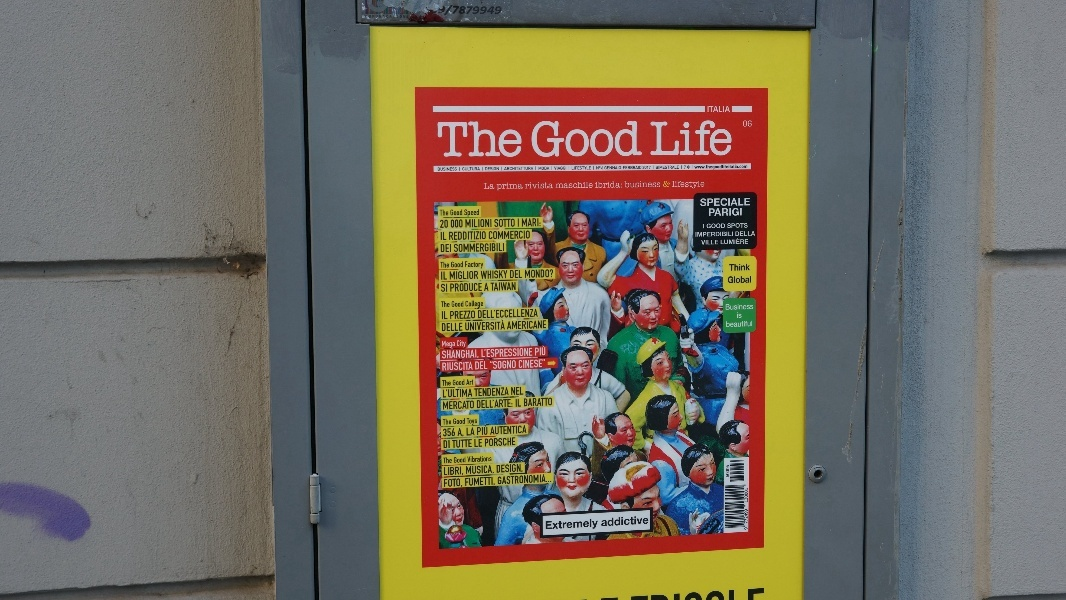text: (545, 121, 560, 158), (561, 121, 576, 158), (577, 121, 592, 158), (593, 121, 608, 158), (609, 121, 624, 158), (625, 121, 640, 158), (657, 120, 672, 156), (673, 120, 688, 156), (689, 120, 704, 156), (705, 120, 720, 156), (449, 122, 464, 157), (465, 122, 480, 157), (481, 122, 496, 157), (497, 122, 512, 157), (532, 121, 544, 158), (721, 120, 733, 156), (438, 122, 448, 157), (513, 122, 522, 157), (651, 120, 656, 156), (465, 319, 480, 331), (481, 319, 496, 331), (561, 519, 576, 530), (577, 519, 592, 530), (609, 516, 624, 527), (625, 516, 640, 527), (465, 476, 480, 487), (513, 474, 528, 485), (529, 474, 544, 485), (481, 308, 496, 319), (497, 308, 512, 319), (513, 308, 528, 319), (497, 425, 512, 436), (513, 425, 528, 436), (449, 388, 464, 399), (497, 399, 513, 409), (546, 519, 560, 530), (481, 476, 495, 487), (498, 474, 512, 485), (497, 464, 512, 474), (449, 231, 464, 241), (465, 231, 480, 241), (497, 230, 512, 240), (513, 230, 528, 240), (465, 243, 480, 253), (481, 243, 496, 253), (481, 270, 496, 280), (497, 282, 512, 292), (513, 320, 528, 330), (529, 320, 544, 330), (449, 350, 464, 360), (497, 348, 512, 358), (513, 348, 528, 358), (497, 360, 512, 370), (481, 399, 496, 409), (481, 387, 496, 397), (466, 465, 480, 475), (481, 465, 495, 475), (465, 350, 479, 360), (482, 348, 496, 358), (705, 198, 720, 207), (721, 198, 736, 207), (721, 208, 736, 217), (449, 467, 464, 476), (497, 219, 512, 228), (465, 271, 480, 280), (529, 270, 544, 279), (465, 283, 480, 292), (449, 323, 464, 332), (449, 362, 464, 371), (497, 438, 512, 447), (449, 401, 464, 410), (529, 398, 544, 407), (726, 465, 736, 478), (529, 218, 542, 228), (497, 387, 510, 397), (689, 181, 705, 189), (737, 320, 753, 328), (449, 479, 463, 488), (466, 219, 480, 228), (450, 271, 464, 280), (450, 283, 464, 292), (450, 311, 464, 320), (497, 183, 512, 191), (673, 181, 688, 189), (737, 276, 752, 284), (744, 488, 752, 503), (465, 262, 480, 270), (529, 360, 544, 368), (465, 7, 480, 15), (481, 7, 496, 15), (737, 198, 750, 207), (467, 427, 480, 436), (466, 301, 480, 309), (497, 270, 508, 280), (529, 308, 539, 319), (497, 319, 506, 331), (452, 440, 464, 449), (516, 399, 528, 408), (529, 182, 544, 189), (561, 182, 576, 189), (577, 182, 592, 189), (625, 181, 640, 188), (641, 181, 656, 188), (721, 238, 736, 245), (737, 304, 752, 311), (737, 312, 752, 319), (745, 509, 752, 524), (465, 210, 480, 217), (451, 220, 464, 228), (467, 418, 480, 426), (513, 464, 523, 474), (454, 243, 464, 253), (486, 282, 496, 292), (709, 208, 720, 217), (641, 516, 650, 527), (481, 219, 492, 228), (465, 311, 476, 320), (485, 438, 496, 447), (513, 387, 524, 396), (609, 182, 623, 189), (483, 183, 496, 190), (737, 264, 750, 271), (705, 231, 720, 237), (737, 231, 752, 237), (513, 270, 523, 279), (535, 346, 544, 356), (465, 401, 475, 410), (545, 474, 553, 485), (465, 388, 473, 399), (453, 7, 464, 15), (708, 106, 720, 113), (596, 182, 608, 189), (737, 238, 749, 245), (452, 301, 464, 308), (468, 456, 480, 463), (468, 379, 480, 386), (545, 270, 554, 279), (465, 362, 474, 371), (513, 183, 523, 191), (518, 219, 528, 227), (497, 243, 505, 253), (721, 231, 734, 237), (451, 210, 464, 216), (481, 456, 492, 463), (481, 425, 488, 436), (453, 379, 464, 386), (705, 165, 720, 170), (721, 165, 736, 170), (641, 121, 643, 158), (727, 320, 736, 328), (440, 220, 448, 229), (440, 232, 448, 241), (452, 262, 464, 268), (519, 360, 528, 368), (465, 440, 473, 449), (545, 398, 553, 407), (721, 106, 731, 113), (705, 240, 719, 245), (726, 304, 736, 311), (489, 230, 496, 240), (449, 428, 456, 438), (454, 418, 464, 425), (593, 519, 599, 530), (602, 516, 608, 527), (707, 224, 720, 229), (664, 180, 672, 188), (728, 276, 736, 284), (743, 120, 752, 127), (545, 182, 554, 189), (441, 244, 448, 253), (441, 284, 448, 293), (481, 361, 488, 370), (465, 167, 480, 171), (513, 167, 528, 171), (577, 167, 592, 171), (609, 166, 624, 170), (625, 166, 640, 170), (657, 166, 672, 170), (737, 223, 749, 228), (522, 218, 528, 228), (442, 350, 448, 360), (490, 360, 496, 370), (454, 457, 464, 463), (474, 387, 480, 397), (440, 262, 448, 269), (441, 272, 448, 280), (449, 341, 456, 349), (457, 340, 464, 348), (737, 165, 748, 170), (443, 388, 448, 399), (449, 5, 454, 16), (442, 311, 448, 320), (442, 323, 448, 332), (643, 166, 656, 170), (694, 165, 704, 170), (481, 231, 486, 241), (491, 282, 496, 292), (443, 428, 448, 438), (729, 264, 736, 271), (696, 231, 704, 237), (440, 210, 448, 216), (442, 341, 448, 349), (497, 7, 503, 15), (737, 208, 742, 217), (475, 361, 480, 370), (443, 362, 448, 371), (475, 439, 480, 448), (443, 401, 448, 410), (523, 398, 528, 407), (485, 167, 496, 171), (597, 166, 608, 170), (492, 425, 496, 436), (444, 5, 448, 16), (441, 302, 448, 308), (442, 380, 448, 387), (728, 223, 736, 228), (529, 348, 533, 358), (460, 427, 464, 437), (443, 418, 448, 426), (700, 198, 704, 207), (444, 479, 448, 488), (444, 467, 448, 476), (444, 440, 448, 449), (477, 425, 480, 436), (438, 168, 448, 171), (513, 282, 516, 292), (509, 320, 512, 330), (513, 360, 516, 370), (477, 399, 480, 409), (505, 167, 512, 171), (556, 182, 560, 189), (657, 181, 661, 188), (449, 168, 458, 171), (449, 244, 452, 253), (525, 270, 528, 279), (513, 438, 516, 447), (721, 224, 726, 229), (673, 166, 679, 170), (481, 262, 484, 270), (481, 301, 484, 309), (444, 458, 448, 464), (449, 458, 453, 464), (449, 418, 452, 426), (478, 308, 480, 319), (525, 182, 528, 189), (529, 167, 534, 171), (539, 167, 544, 171), (545, 167, 550, 171), (529, 230, 531, 240), (545, 320, 547, 330), (554, 167, 560, 170), (561, 167, 567, 170), (753, 231, 756, 237), (494, 219, 496, 228), (513, 219, 515, 228), (510, 270, 512, 279), (449, 440, 451, 449), (481, 439, 483, 448), (572, 167, 576, 171), (744, 528, 752, 530), (465, 340, 467, 348), (701, 240, 704, 245), (593, 182, 595, 189), (449, 380, 451, 387), (497, 167, 500, 171), (605, 166, 608, 170), (684, 166, 688, 169), (545, 346, 546, 356), (481, 283, 482, 292), (511, 387, 512, 396), (462, 167, 464, 171), (545, 360, 546, 368), (753, 304, 754, 311), (449, 262, 450, 269), (465, 418, 466, 425), (449, 302, 450, 308), (465, 457, 466, 463), (703, 224, 704, 229), (641, 166, 642, 170), (687, 166, 688, 169), (689, 166, 690, 169)
